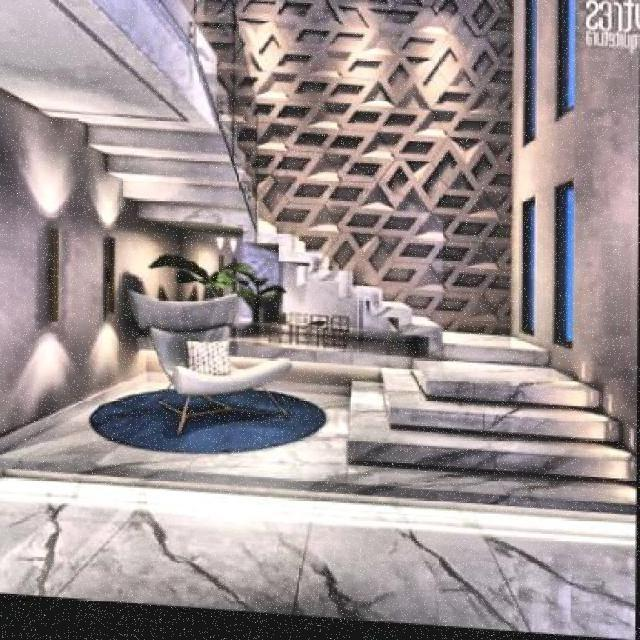stair: (336, 328, 636, 497)
